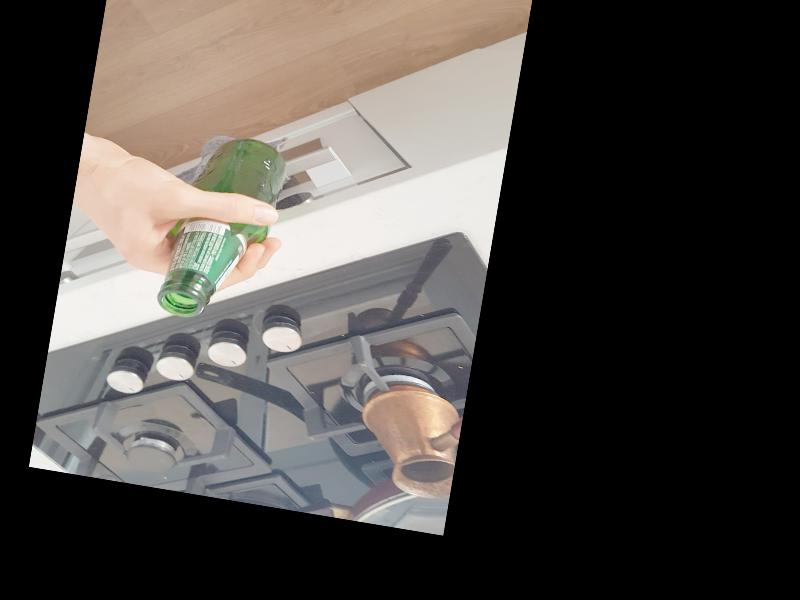Beer: (155, 127, 288, 329)
